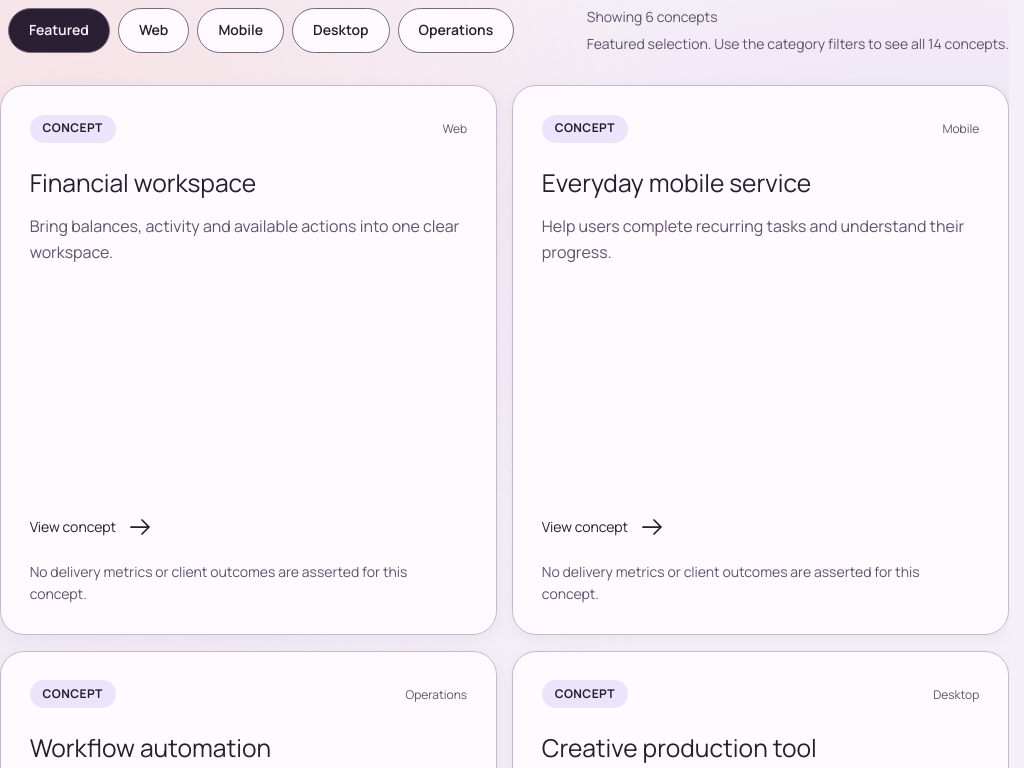
Work filter › shows an honest count for Mobile and preserves every card in the DOM
This screenshot has width=1024, height=768.
Click the button "Mobile" at [241, 31], box [197,8,284,53]
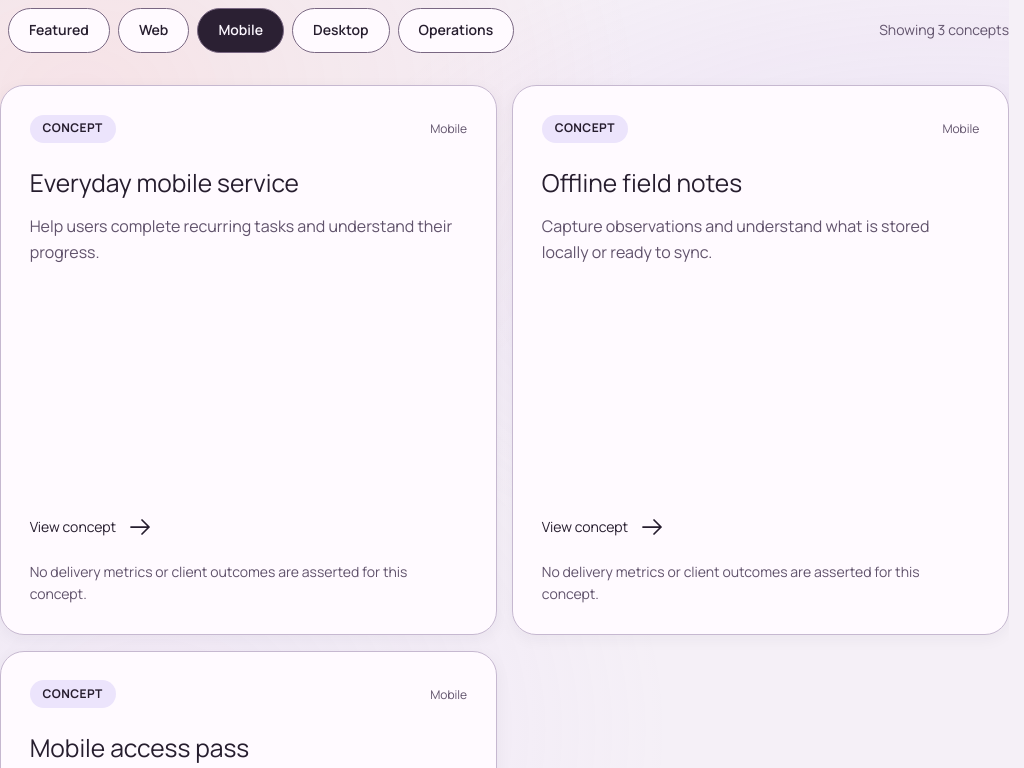
expect the text "Showing 3 concepts" is shown: met, box [879,19,1009,42]
expect the text "Featured selection. Use the category filters to see all 14 concepts." is gone: met
Click the button "Featured" at [59, 31], box [8,8,110,53]
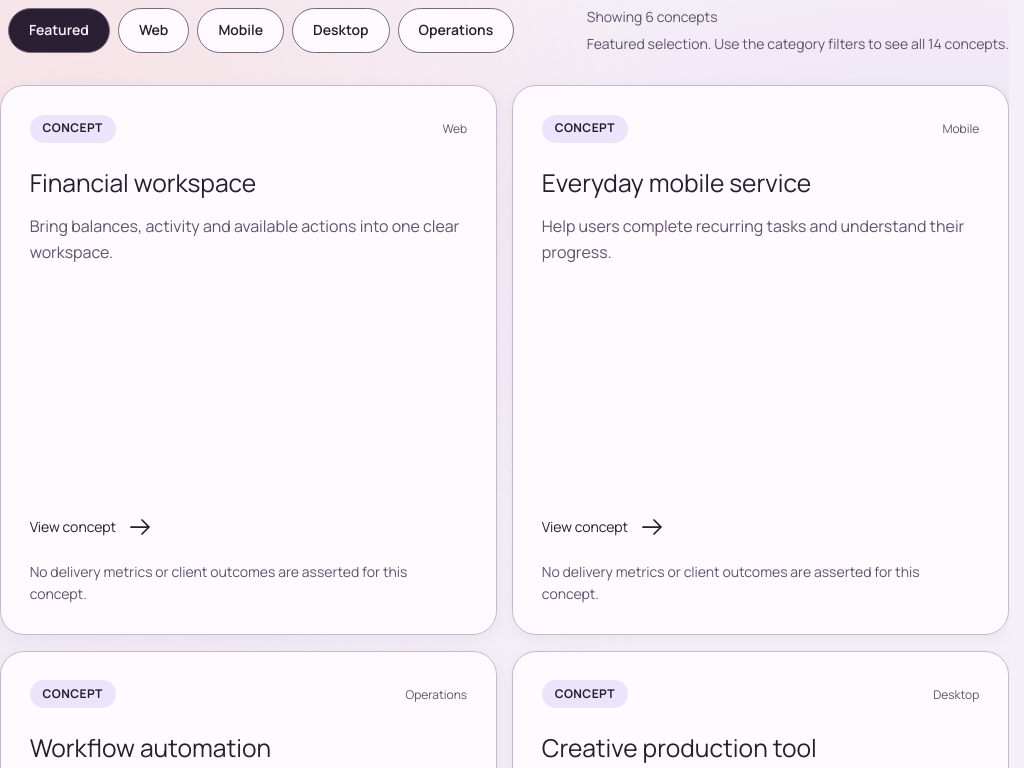
expect the text "Featured selection. Use the category filters to see all 14 concepts." is shown: met, box [587,33,1009,55]
